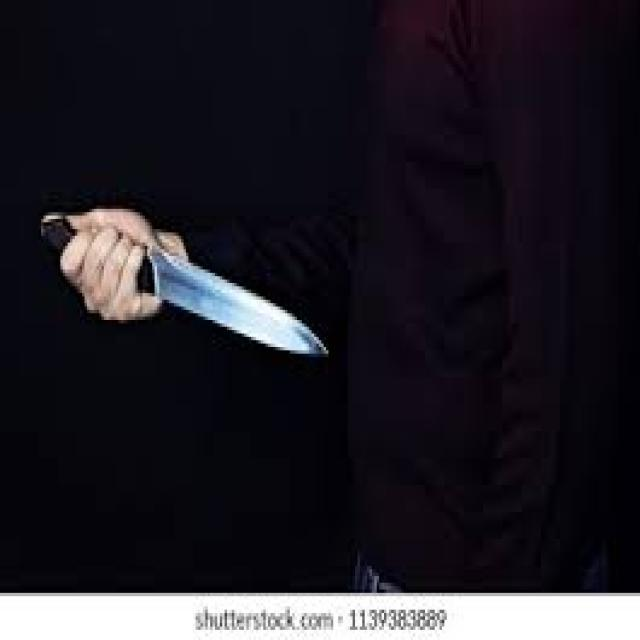faca: (36, 182, 336, 378)
